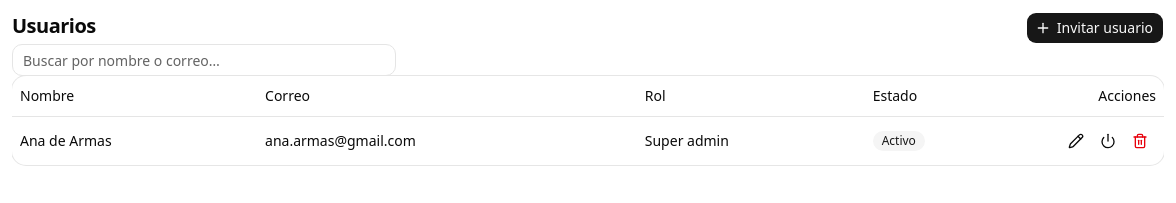
Test: AdminUsuariosPageActiva › un usuario con proyectos propios no se puede eliminar: 409 visible, no una fila desaparecida
What coordinates should you click on to do the following:
click the button titled "Eliminar"
I would click on:
 (1140, 140)
Its box is [1124,124,1156,156].
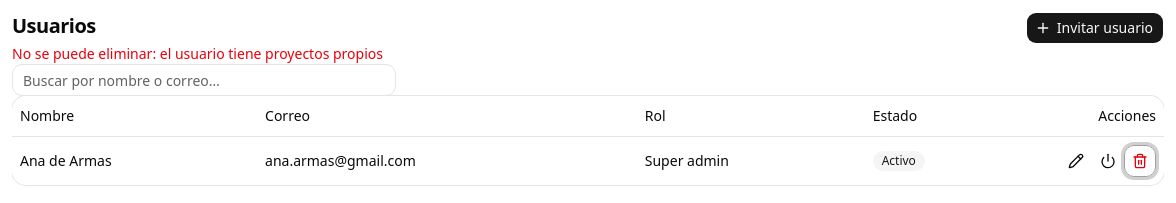
Expected: the text "Ana de Armas" is shown, [12,136,257,184]
Expected: the text "No se puede eliminar: el usuario tiene proyectos propios" is shown, [12,44,383,63]
